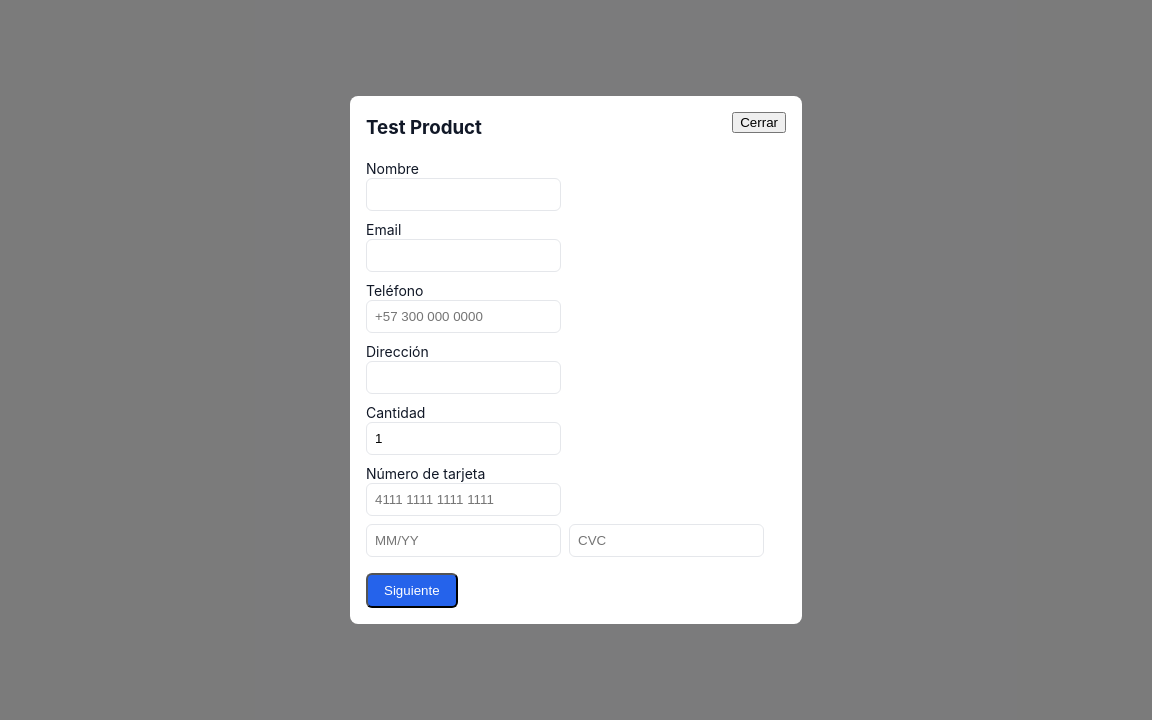
Test: renders payment fields and formats card number in groups of 4
Expected: the 1st field is shown, [366, 178, 561, 211]
Expected: the 2nd field is shown, [366, 239, 561, 272]
Note: type digits and expect them grouped (component formats the value)
Type "4111111111111111" into the field with placeholder "4111 1111 1111 1111" at (464, 499), box [366, 483, 561, 516]
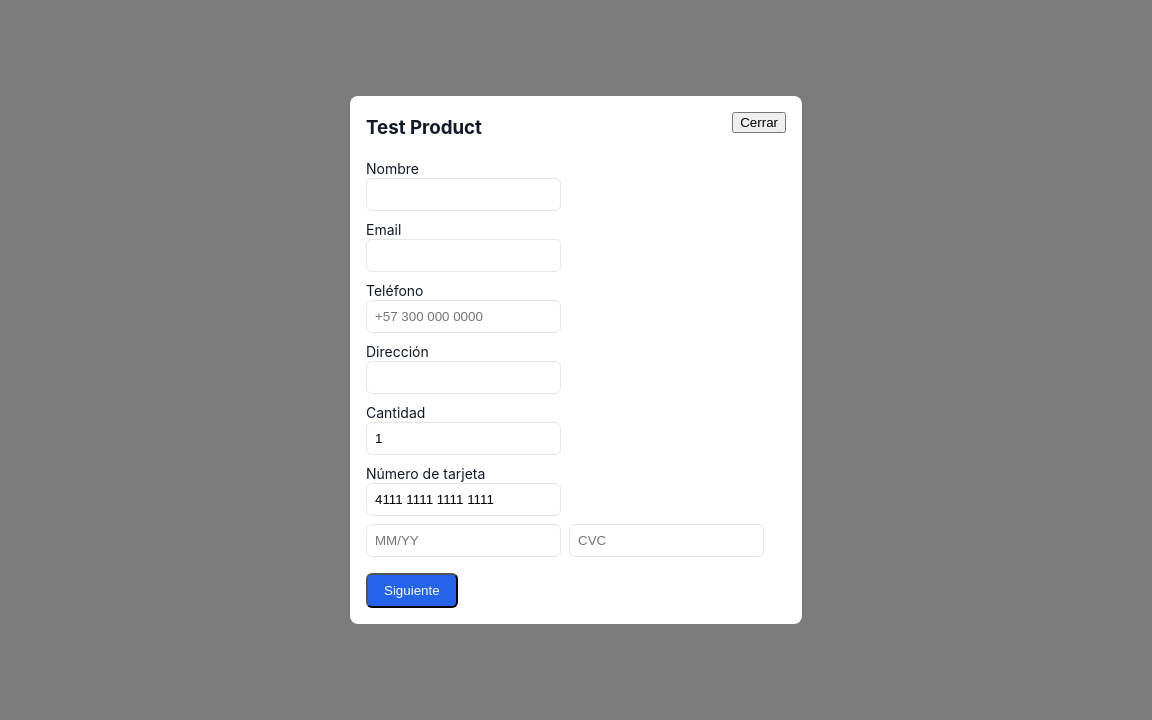
Expected: the 4th field with placeholder "4111 1111 1111 1111" holds "4111 1111 1111 1111", [366, 483, 561, 516]
